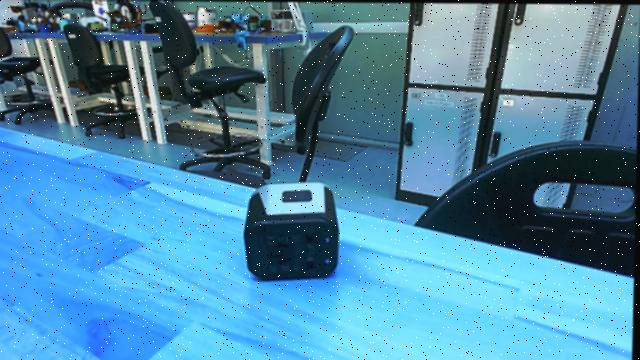adapter: (244, 183, 344, 284)
